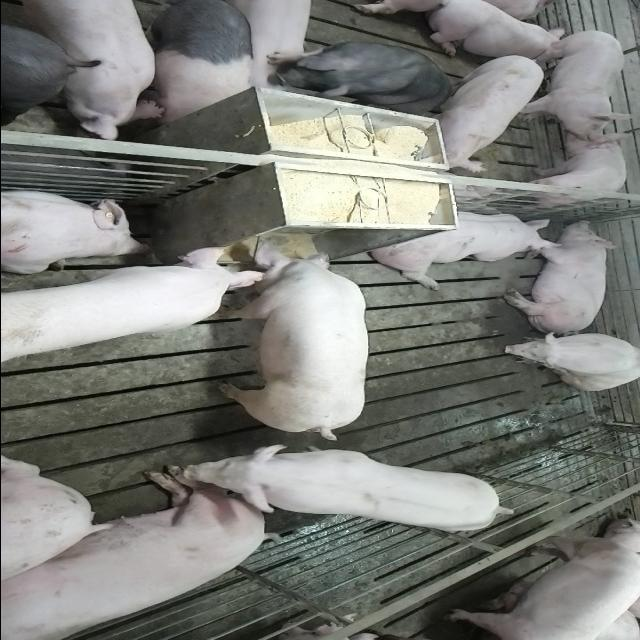Feeding: (8, 246, 274, 364), (208, 237, 362, 440)
Lateral_lying: (499, 220, 622, 334)
Sitting: (496, 330, 640, 390)
Standing: (158, 443, 515, 537), (442, 524, 640, 640), (2, 2, 162, 142), (132, 2, 256, 126), (420, 51, 544, 169), (504, 26, 624, 141), (276, 41, 456, 105), (508, 134, 626, 207), (2, 15, 80, 124)
Sternal_lying: (366, 208, 562, 286), (0, 185, 147, 272), (424, 0, 572, 60)
